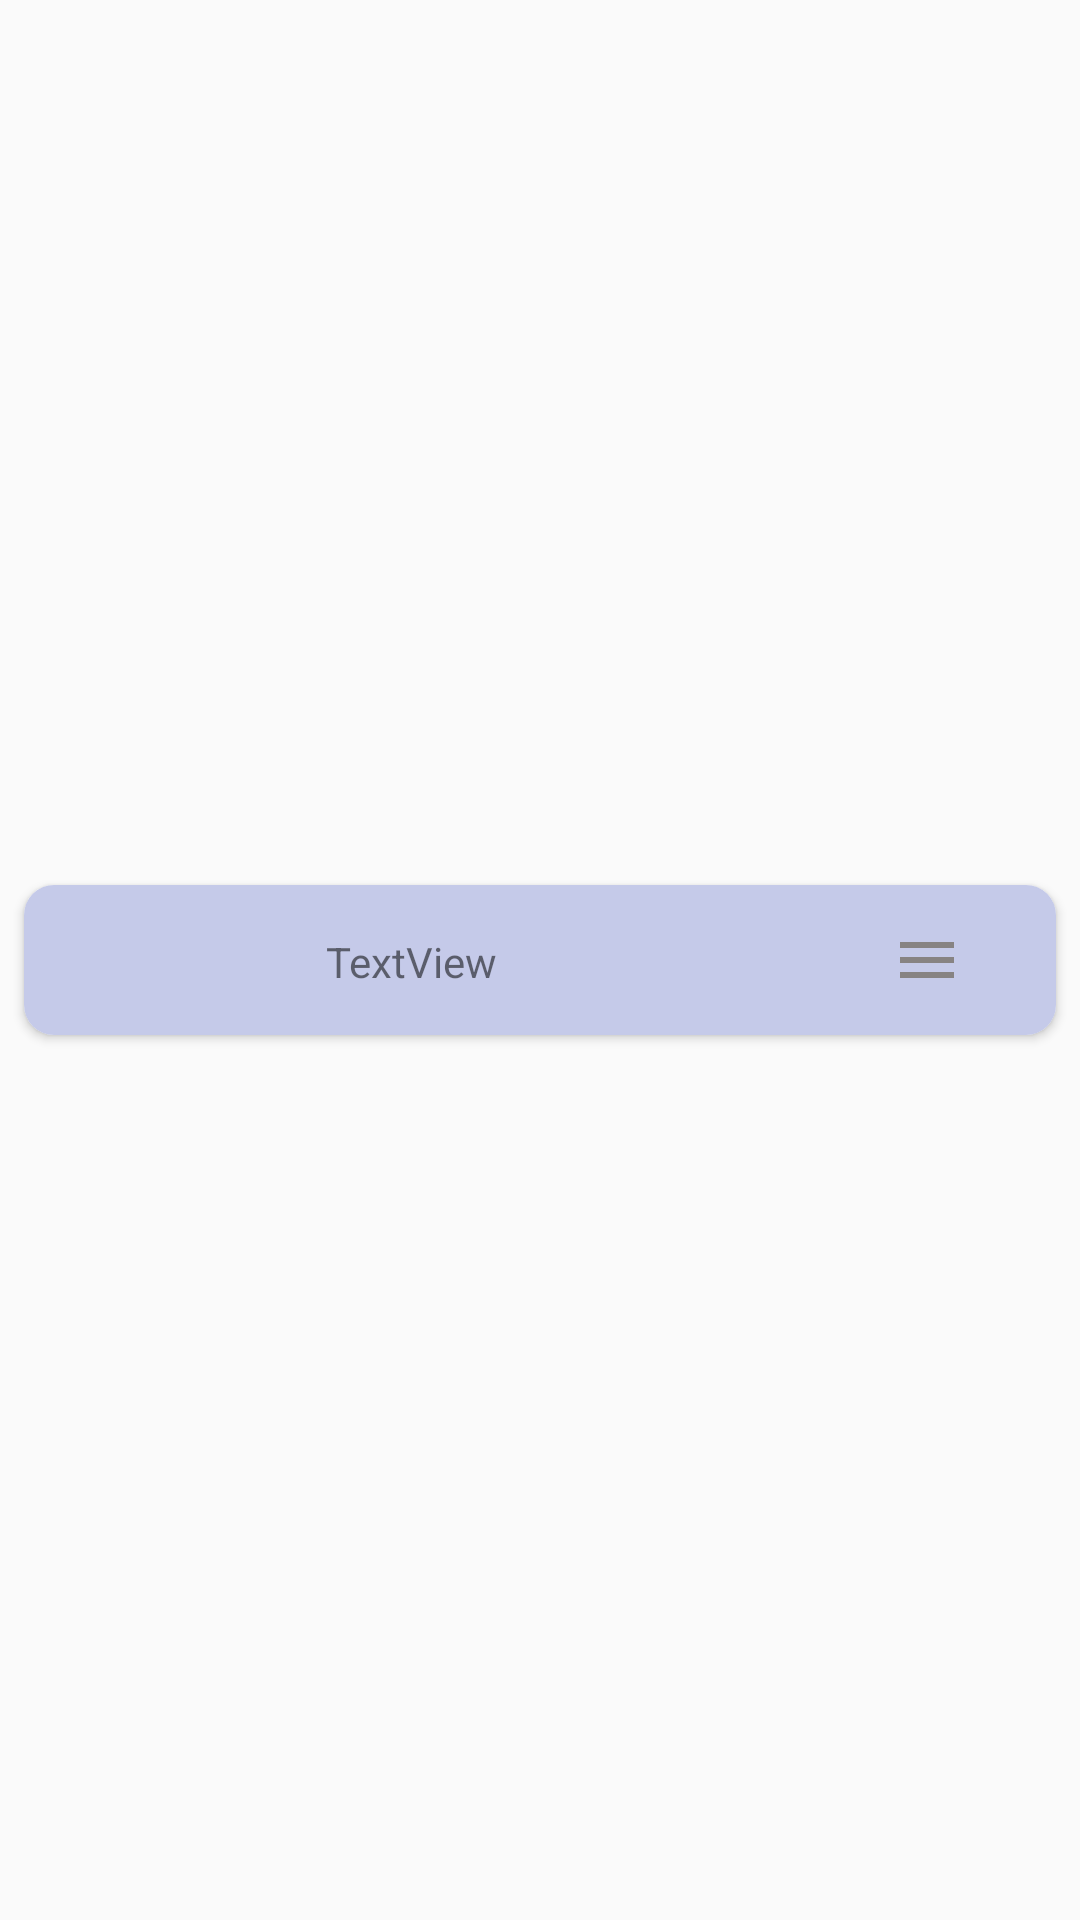

Where to tap for icons on this 1080px×1920px app screen, as [x,y]:
menu: [927,960]
